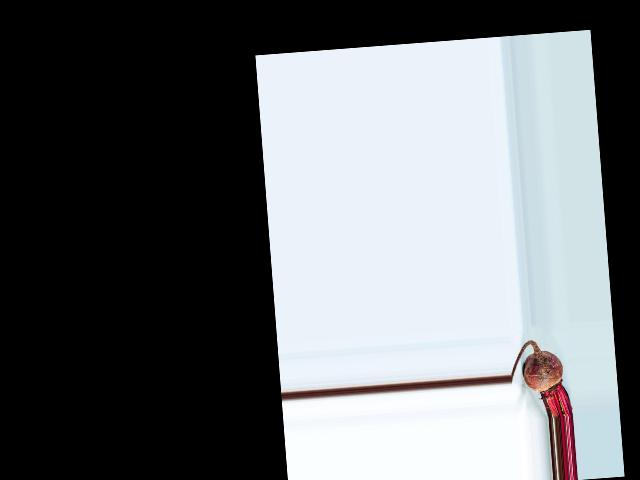beet: (508, 338, 573, 421)
